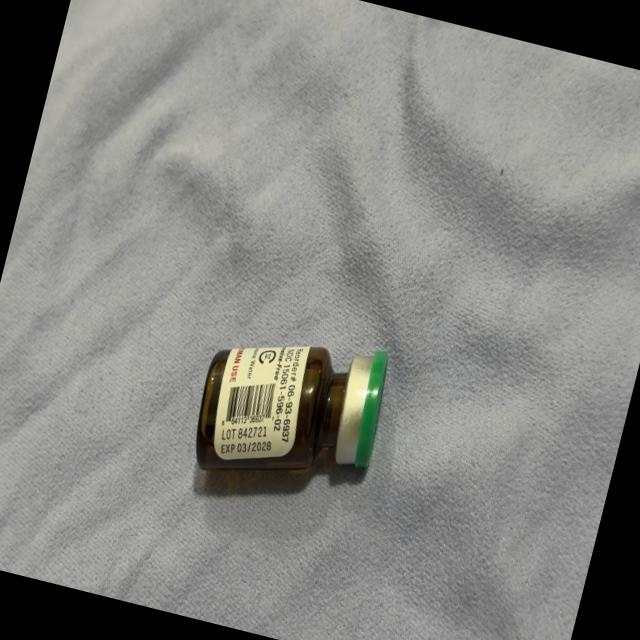midazolm: (188, 314, 393, 505)
